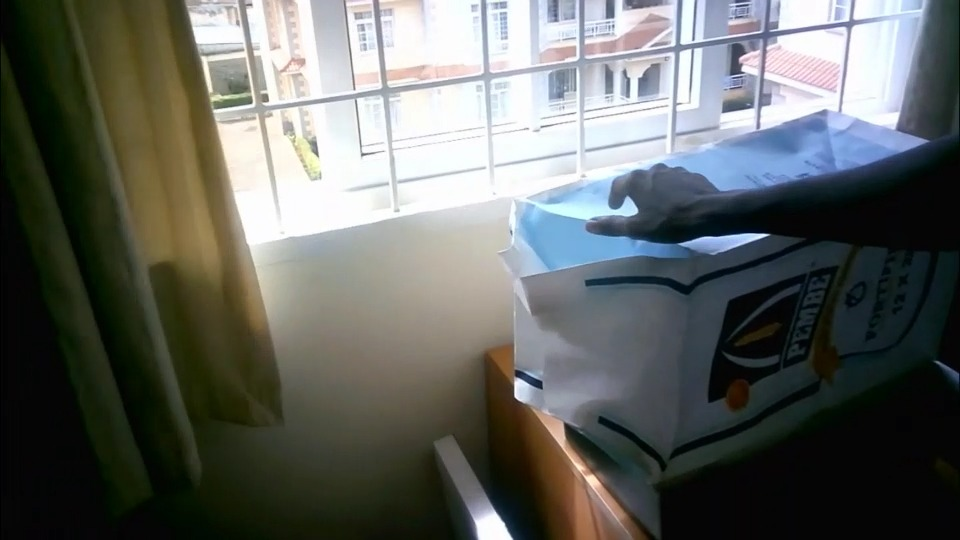wheat_flour_blue_label: (509, 110, 952, 484)
